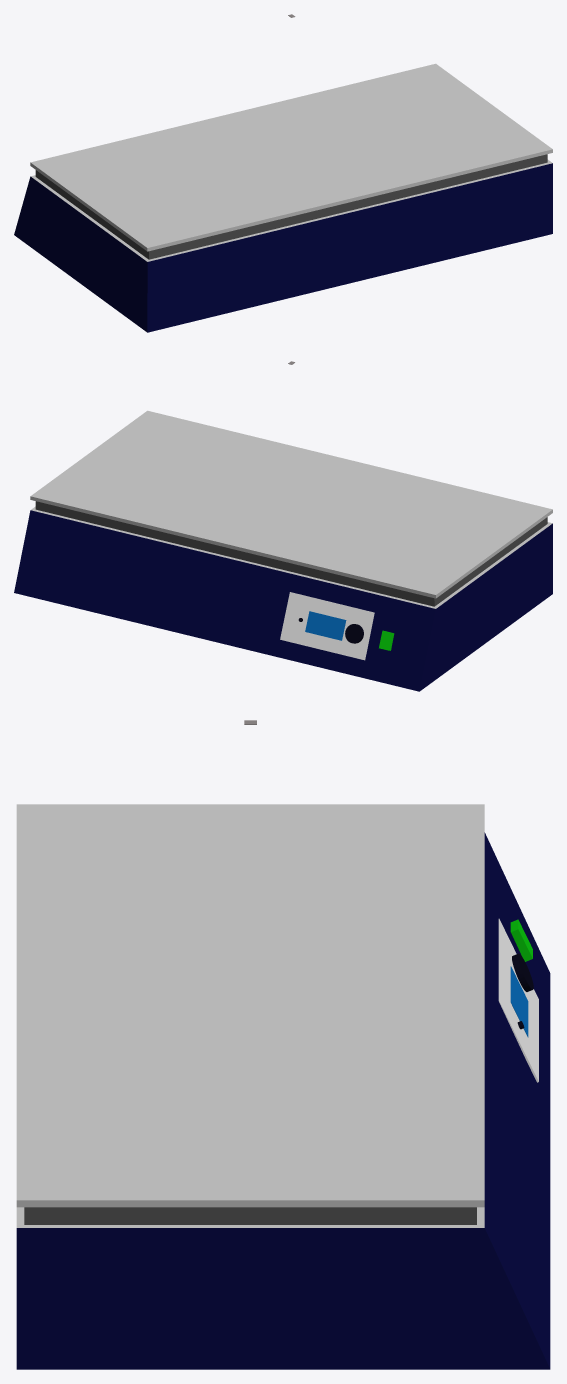
File: Hotplate.fbx
3 renders of one model, top to bottom at view 1: azimuth 30°, elevation 25°; view 2: azimuth 150°, elevation 25°; view 3: azimuth 270°, elevation 25°, orthographic. The views are drawn at different scales.
Visible parts, largest first — view 1: hotplatebody_001, hotplatebody, hotplate; view 2: hotplatebody_001, hotplatebody, hotplate, 큐브, 큐브_001; view 3: hotplatebody_001, hotplatebody, hotplate, 큐브.
Part boxes in pixels (<box>): hotplatebody_001: <box>30,63,552,251</box>; hotplatebody: <box>14,159,552,332</box>; hotplate: <box>35,154,547,259</box>; hotplatebody_001: <box>30,410,552,598</box>; hotplatebody: <box>14,506,552,691</box>; hotplate: <box>35,501,547,606</box>; 큐브: <box>280,592,374,660</box>; 큐브_001: <box>305,611,346,640</box>; hotplatebody_001: <box>16,804,484,1207</box>; hotplatebody: <box>16,832,550,1369</box>; hotplate: <box>24,1207,476,1224</box>; 큐브: <box>498,918,538,1082</box>.
Size of the model in its own units: 60 by 31.77 by 34.21.
